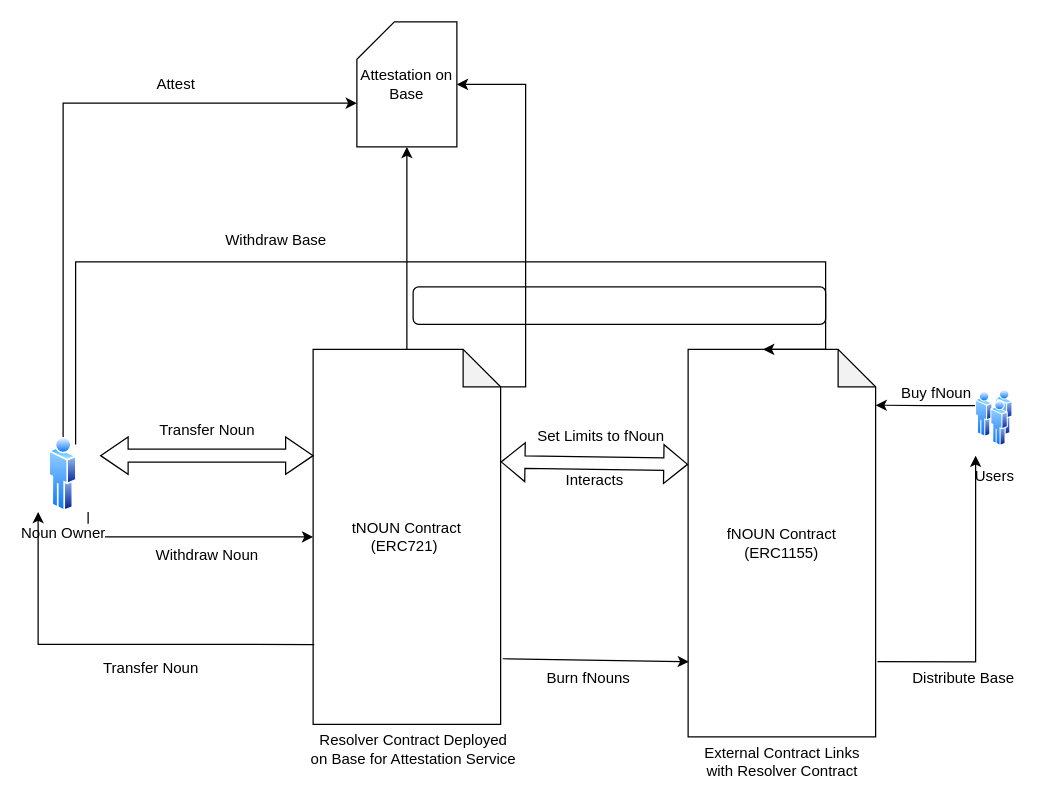
Some shapes in this 1048 by 809 pixel diagram are drawn without their labels. The shapes that lost their labels are listed below. From the top down, each one's centre as x and y in pixels, then its label:
At (619,305): "Contracts".
At (206,455): "Mint tNoun".
